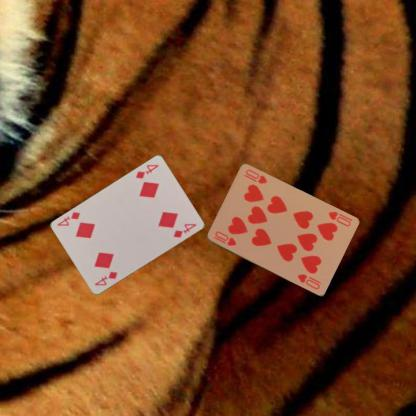10h: (210, 228, 238, 247), (325, 209, 351, 228)
4d: (92, 269, 118, 288), (133, 162, 159, 180)
